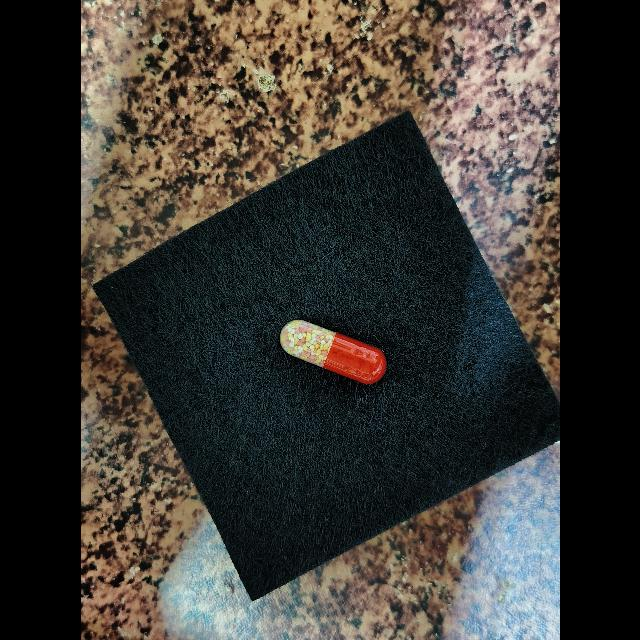Intact Capsule: (279, 320, 386, 384)
